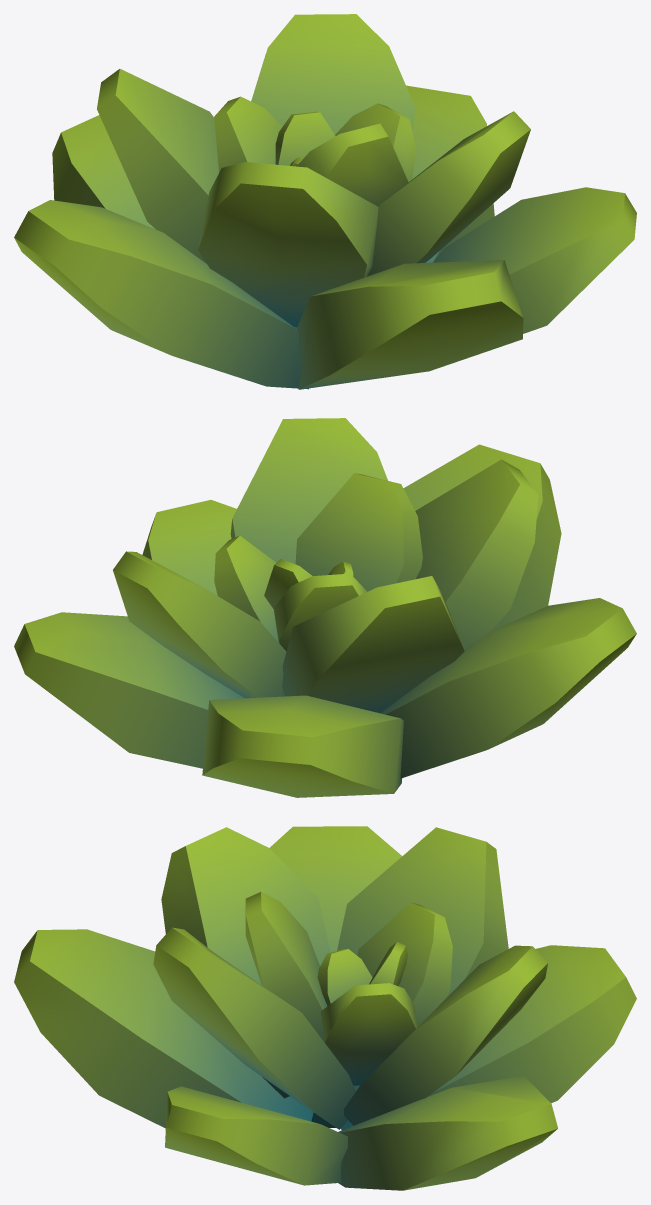
3 views of the same model, one above another, from view 1: azimuth 30°, elevation 25°; view 2: azimuth 150°, elevation 25°; view 3: azimuth 270°, elevation 25° (orthographic). The views are drawn at different scales.
Visible parts, largest first — view 1: LOD 2_12136077992207387896_2f8ba4c41a4dc724f9dea2cd9f6b5378; view 2: LOD 2_12136077992207387896_2f8ba4c41a4dc724f9dea2cd9f6b5378; view 3: LOD 2_12136077992207387896_2f8ba4c41a4dc724f9dea2cd9f6b5378.
Part boxes in pixels (x1,y1,x2,y2): LOD 2_12136077992207387896_2f8ba4c41a4dc724f9dea2cd9f6b5378: (14,14,636,389); LOD 2_12136077992207387896_2f8ba4c41a4dc724f9dea2cd9f6b5378: (14,418,636,797); LOD 2_12136077992207387896_2f8ba4c41a4dc724f9dea2cd9f6b5378: (14,826,636,1190).
Bounding box in the file's own units: 0.7875 × 0.3778 × 0.8217.
